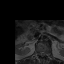CCS_normal: (41, 50, 43, 58)
LFS_normal: (45, 50, 47, 57)
LLS_normal: (43, 49, 45, 57)
RFS_normal: (37, 50, 39, 56)
RLS_normal: (39, 50, 41, 57)
